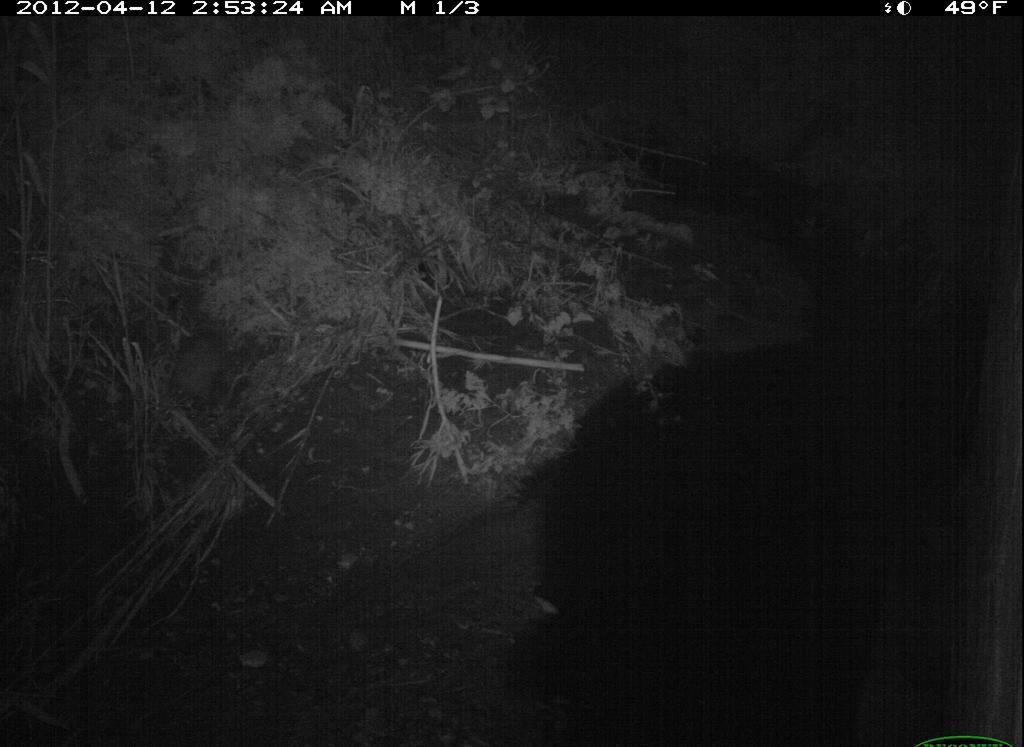opossum: (146, 315, 251, 442)
